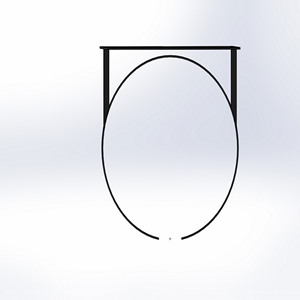circle: (97, 41, 242, 243)
